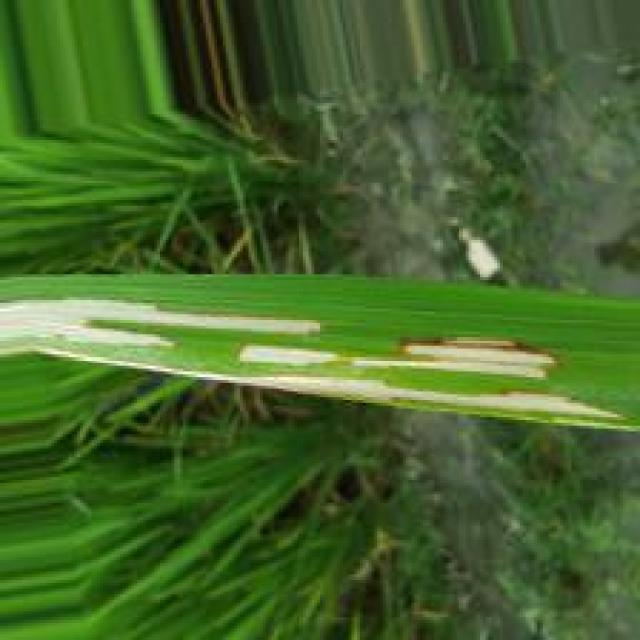Rice_Hispa: (0, 293, 319, 351), (225, 372, 624, 417), (237, 333, 556, 380)
